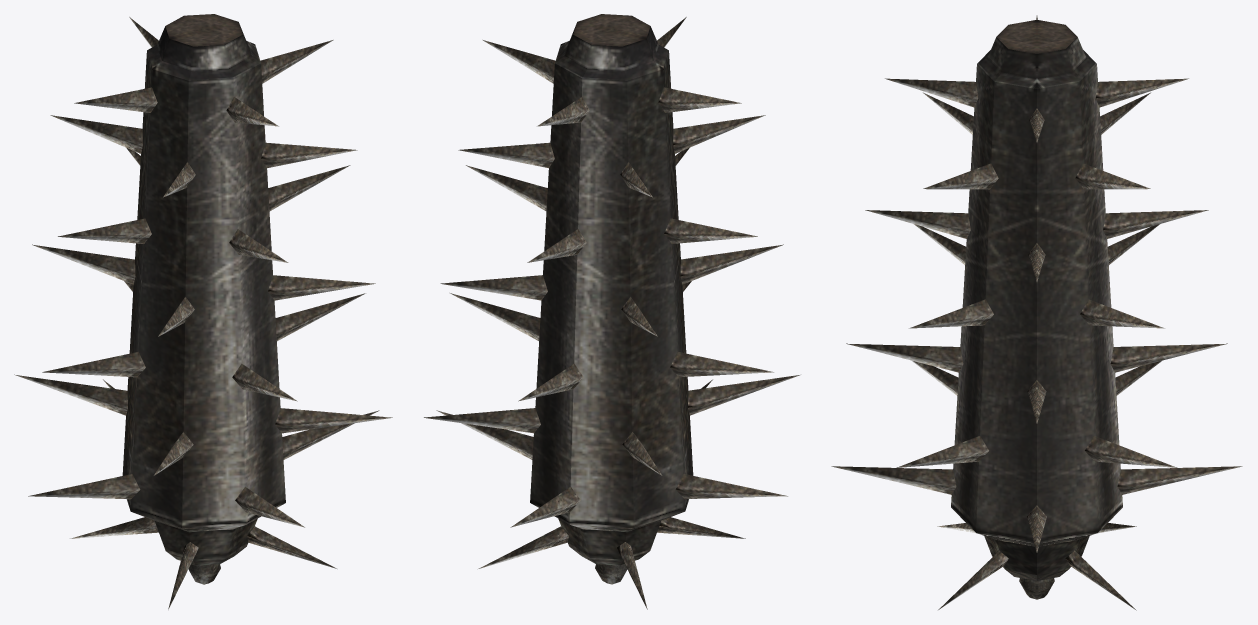
File: Langyabang_body.FBX
The picture shows the model from 3 angles, left to right: view 1: azimuth 30°, elevation 25°; view 2: azimuth 150°, elevation 25°; view 3: azimuth 270°, elevation 25°; orthographic projection.
Visible parts, largest first — view 1: Langyabang_body; view 2: Langyabang_body; view 3: Langyabang_body.
Part boxes in pixels (bbox=[...]): Langyabang_body: bbox=[14, 14, 392, 609]; Langyabang_body: bbox=[424, 14, 799, 609]; Langyabang_body: bbox=[831, 15, 1242, 610].
Bounding box in the file's own units: 30.74 × 46.14 × 30.74.
Materials: 1 (1 with a texture image).
